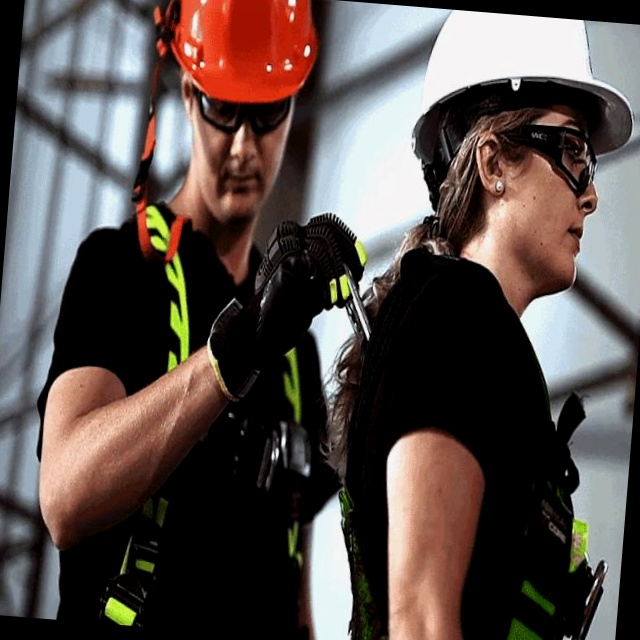goggles: (509, 103, 594, 185)
helmet: (413, 0, 636, 185), (158, 0, 300, 120)
